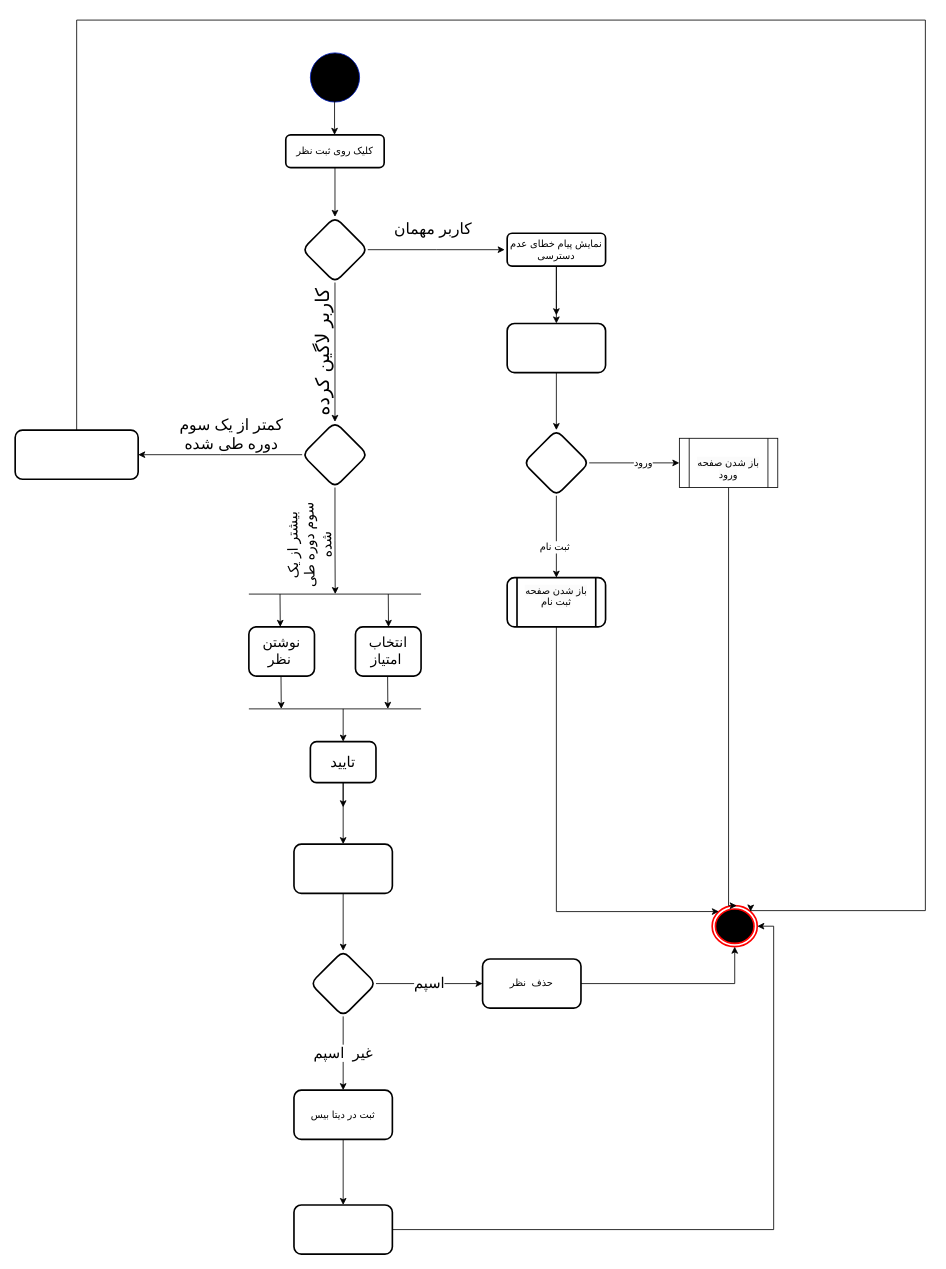
This 946x1269 diagram has some shape labels left out. The box of each missing label's shape, as (x1, y1, x2, y2) in pixels:
بررسی توسط سیستم تشخیص اسپم: (293, 843, 393, 894)
نمایش نظر در لیست نظرات دوره: (293, 1204, 393, 1255)
نمایش پیغام خطا مناسب: (14, 429, 139, 480)
نمایش گزینه های ثبت نام و ورود: (506, 322, 606, 373)
